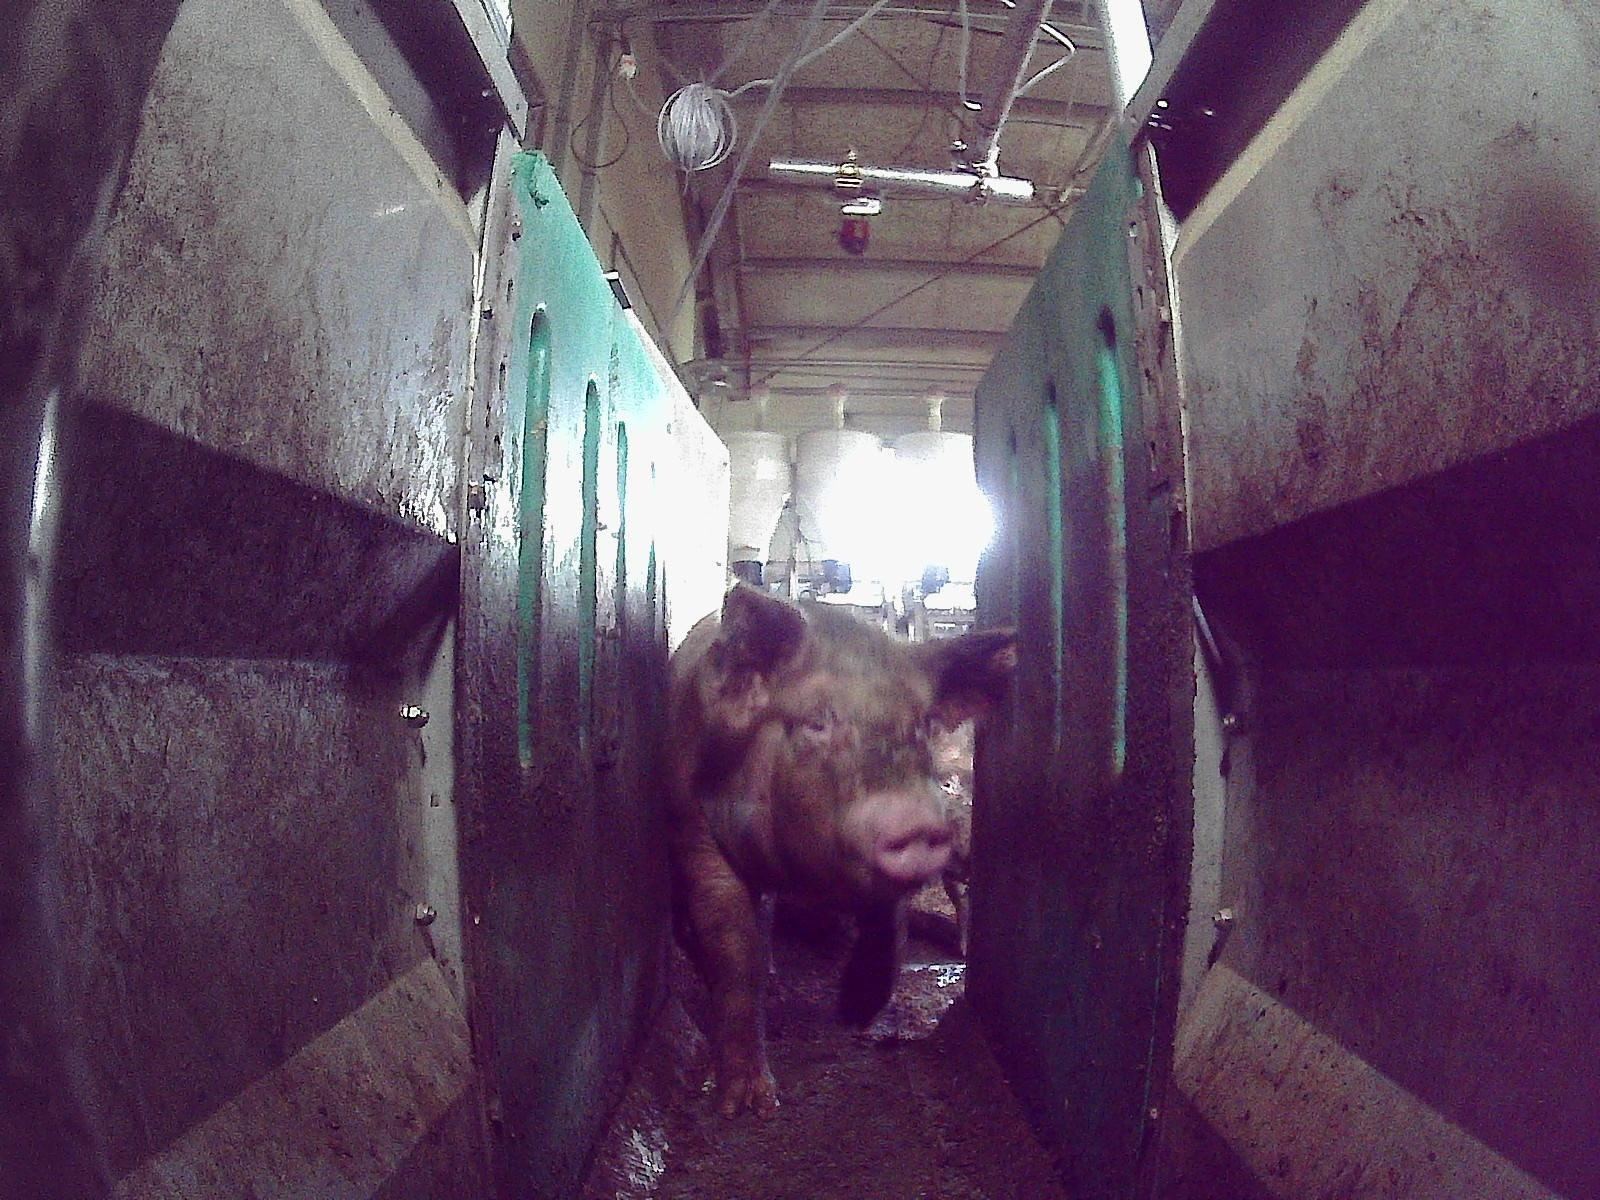Face: (750, 645, 950, 893)
